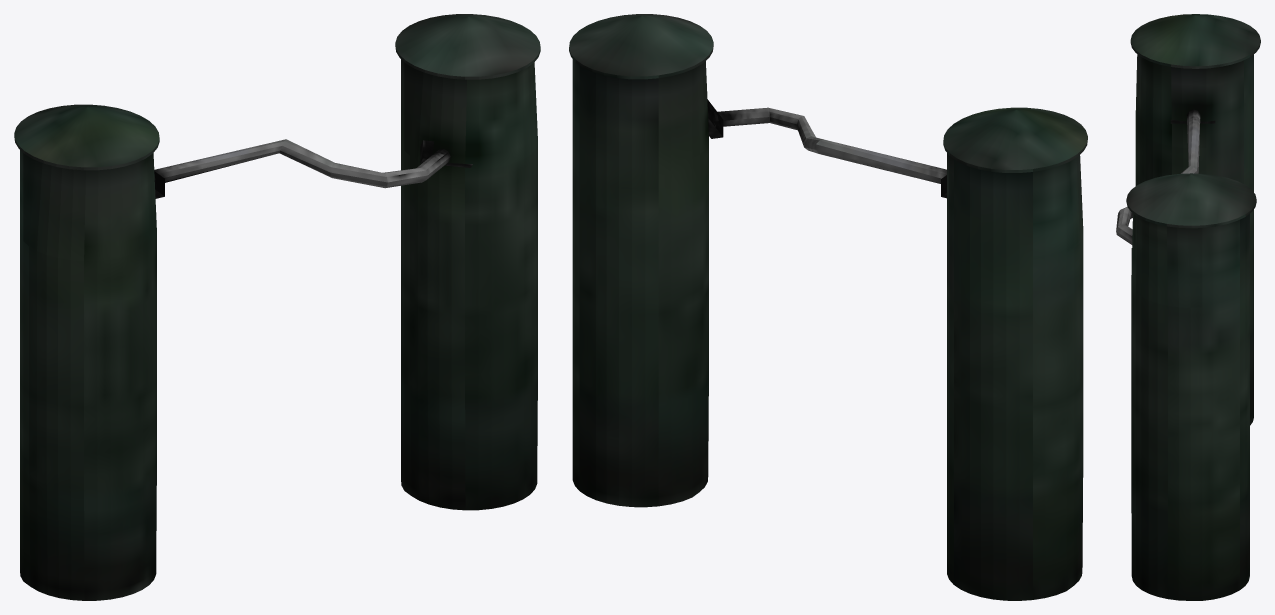
File: waste disposal.fbx
3 views of the same model, side by side, from view 1: azimuth 30°, elevation 25°; view 2: azimuth 150°, elevation 25°; view 3: azimuth 270°, elevation 25° (orthographic). The views are drawn at different scales.
Visible parts, largest first — view 1: waste system; view 2: waste system; view 3: waste system.
Part boxes in pixels (<box>): waste system: <box>14,14,540,600</box>; waste system: <box>569,14,1087,600</box>; waste system: <box>1116,14,1260,600</box>.
Bounding box in the file's own units: 845 × 747 × 244.
